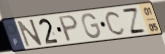2: (38, 17, 60, 46)
C: (105, 10, 128, 37)
G: (81, 13, 102, 40)
N: (16, 18, 45, 49)
P: (57, 14, 80, 44)
Z: (120, 7, 148, 36)
